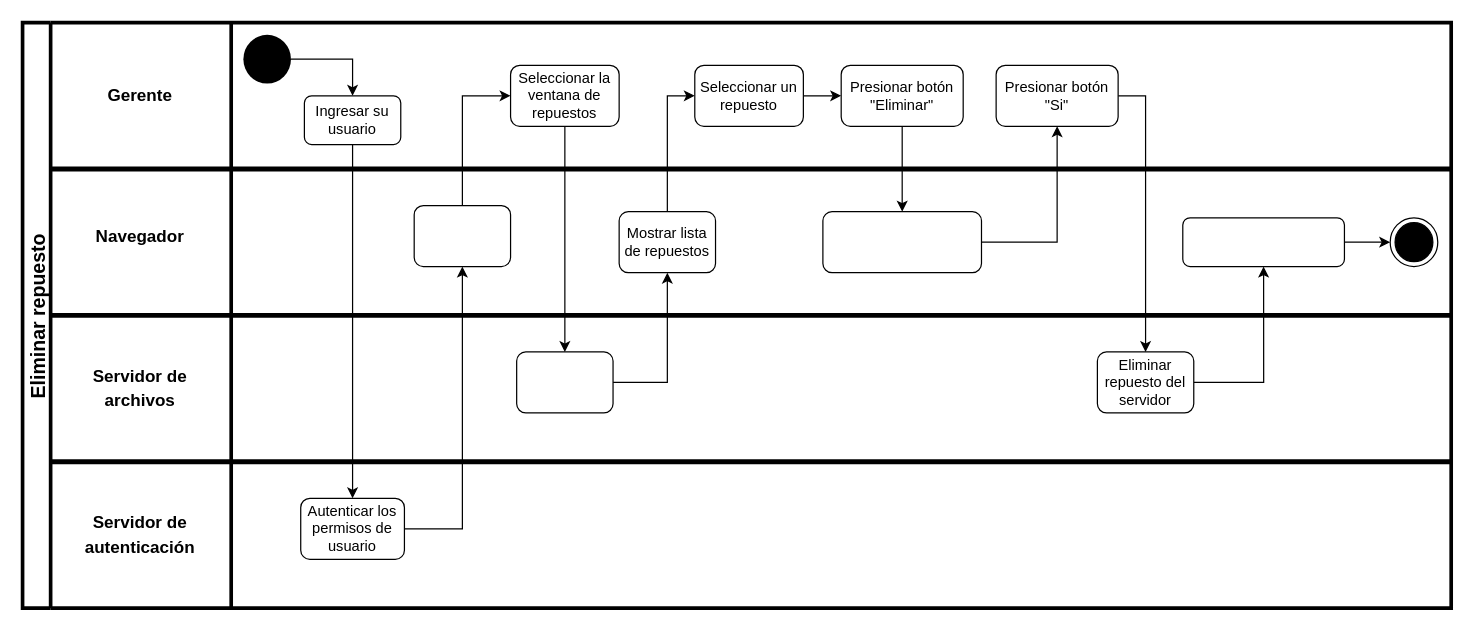
Image size: 1476x632. Some labels were removed from this diagram. The shapes that lost their labels are listed below. From the top down, each one's box as (x1, y1, x2, y2) in pixels, then its label:
(413, 204, 511, 267): Mostrar la ventana del gerente
(822, 210, 981, 273): Mostrar mensaje "¿Seguro que desea eliminar?"
(1182, 217, 1344, 267): Mostrar mensaje "Repuesto eliminado"
(515, 351, 613, 413): Consultar repuestos
